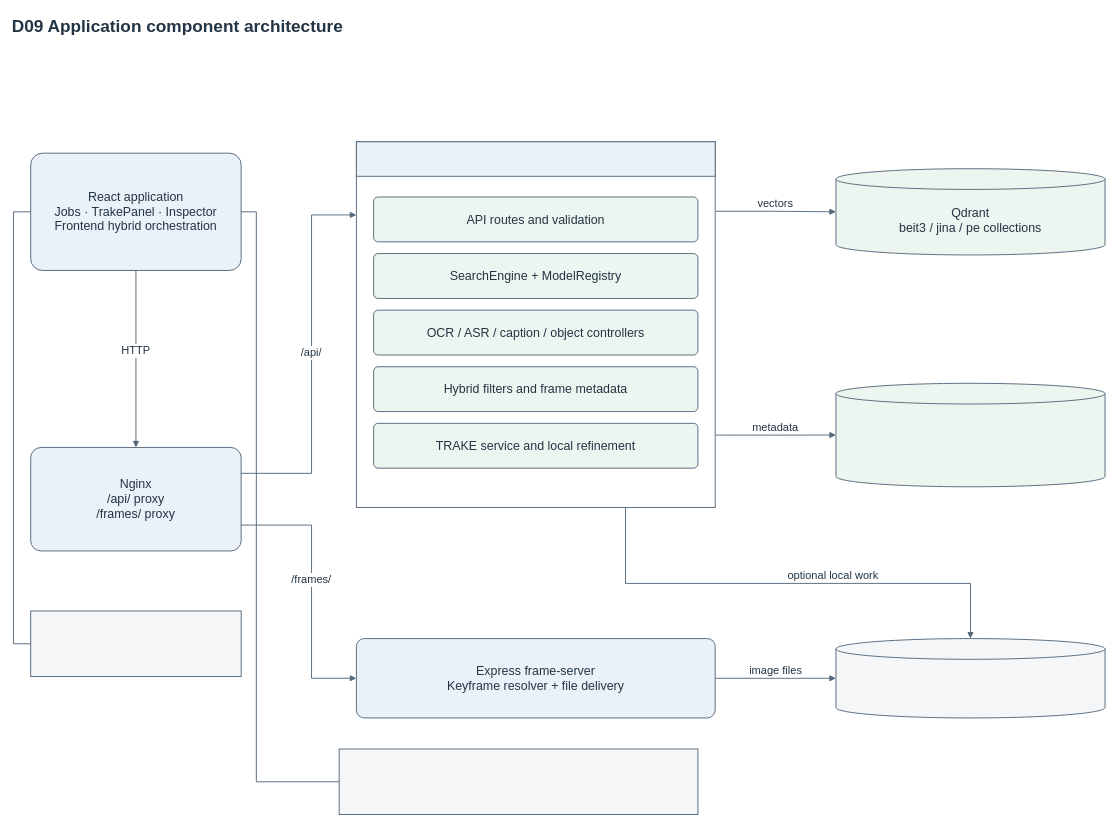
The diagram is 1117 pixels wide and 827 high, and some of its shapes have lost their labels. Here are the shapes that lost their labels. From the top down, the centre of each, then its label:
At (535,158): "Flask application — one process".
At (970,434): "MongoDB Atlas Local ocr_metadata · asr_metadata detseg_metadata".
At (135,643): "DRES Browser-direct login / submission".
At (970,678): "Local runtime assets Models · videos · keyframes".
At (518,781): "YouTube Browser-direct video playback".
